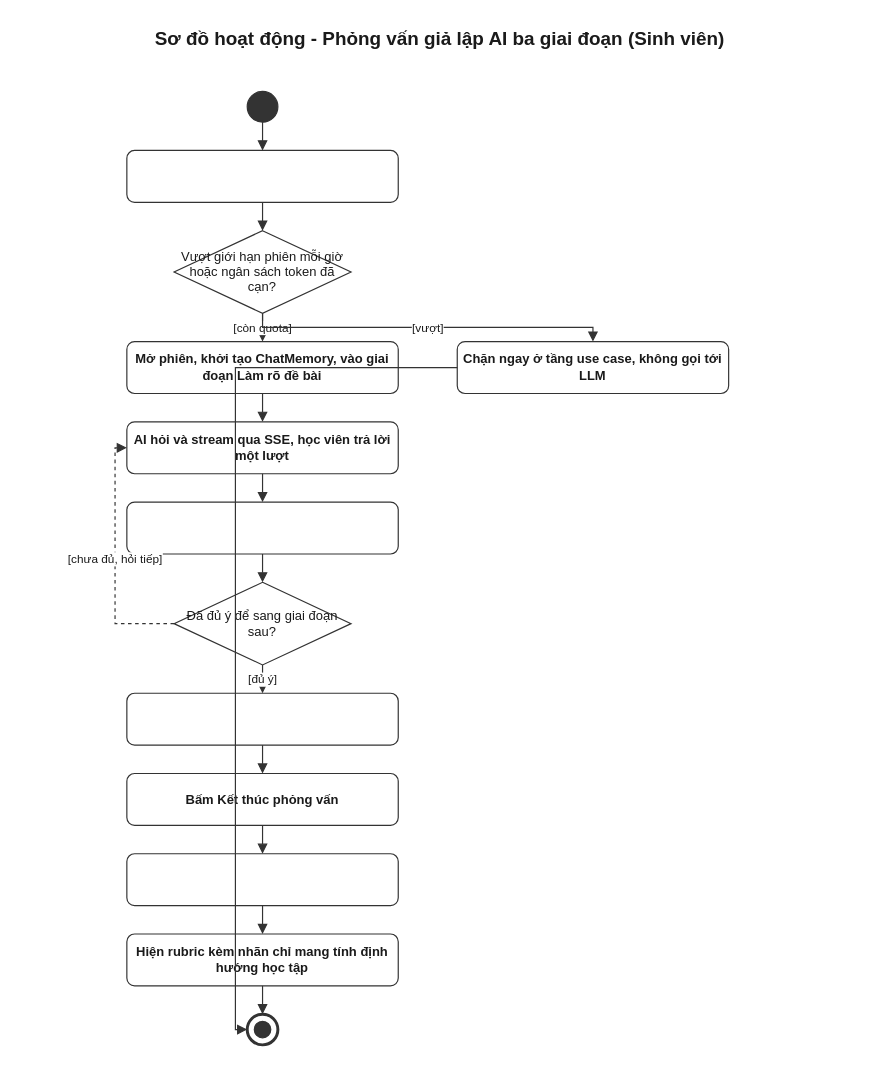
Some shapes in this 878 by 1067 pixel diagram are drawn without their labels. Each missing label, with the centre of its shape:
Chọn bài nộp Accepted, bấm Bắt đầu phiên: point (262, 175)
Câu trả lời luôn vào user message - là dữ liệu, không bao giờ là chỉ thị: point (262, 527)
Sang giai đoạn Trình bày hướng giải rồi Đào sâu độ phức tạp: point (262, 718)
Tổng hợp rubric, lưu phiên, xoá ChatMemory: point (262, 879)
